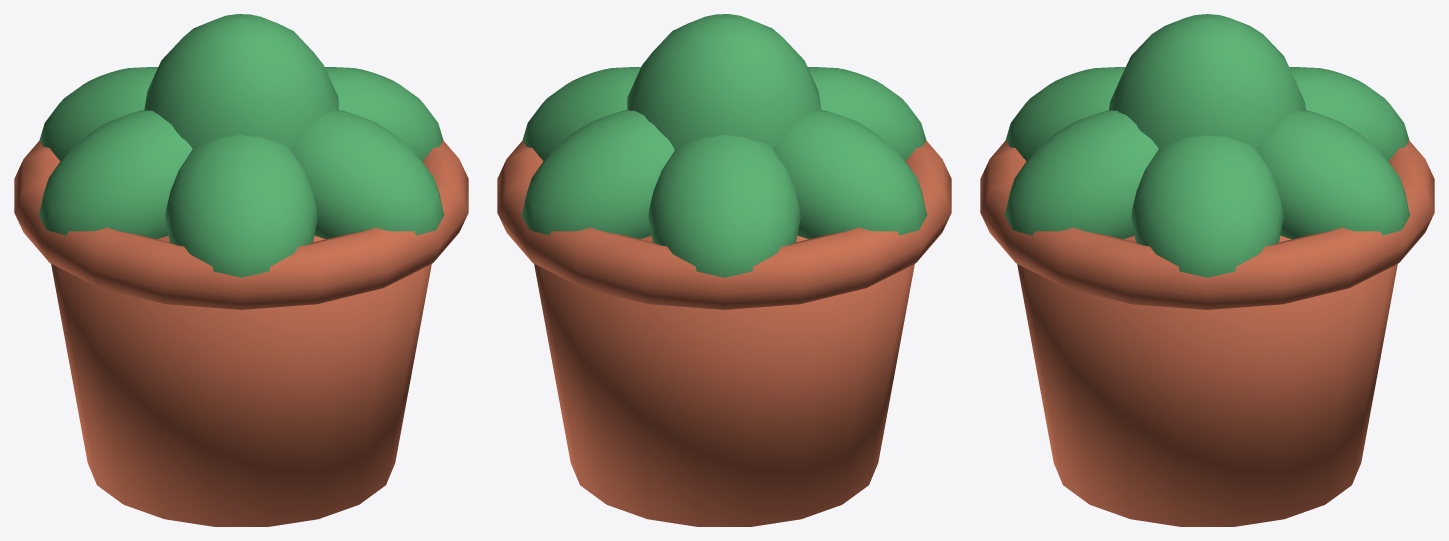
Rendered from Decor_MiniPlant.fbx.
The picture shows the model from 3 angles, left to right: view 1: azimuth 30°, elevation 25°; view 2: azimuth 150°, elevation 25°; view 3: azimuth 270°, elevation 25°; orthographic projection.
Visible parts, largest first — view 1: Plant_Pot, Plant_PotRim, Plant_CenterBud, Plant_Leaf_5, Plant_Leaf_4, Plant_Leaf_6, Plant_Leaf_3, Plant_Leaf_1; view 2: Plant_Pot, Plant_PotRim, Plant_CenterBud, Plant_Leaf_3, Plant_Leaf_4, Plant_Leaf_2, Plant_Leaf_5, Plant_Leaf_1; view 3: Plant_Pot, Plant_PotRim, Plant_CenterBud, Plant_Leaf_1, Plant_Leaf_2, Plant_Leaf_6, Plant_Leaf_3, Plant_Leaf_5.
Part boxes in pixels (x1,y1,x2,y2): Plant_Pot: [51, 235, 431, 526]; Plant_PotRim: [14, 140, 468, 309]; Plant_CenterBud: [144, 14, 338, 149]; Plant_Leaf_5: [165, 135, 317, 277]; Plant_Leaf_4: [38, 110, 192, 238]; Plant_Leaf_6: [291, 110, 444, 238]; Plant_Leaf_3: [39, 67, 157, 160]; Plant_Leaf_1: [325, 67, 443, 160]; Plant_Pot: [534, 235, 914, 526]; Plant_PotRim: [497, 140, 951, 309]; Plant_CenterBud: [627, 14, 821, 149]; Plant_Leaf_3: [648, 135, 800, 277]; Plant_Leaf_4: [773, 110, 927, 238]; Plant_Leaf_2: [521, 110, 674, 238]; Plant_Leaf_5: [808, 67, 926, 160]; Plant_Leaf_1: [522, 67, 640, 160]; Plant_Pot: [1017, 235, 1397, 526]; Plant_PotRim: [980, 140, 1434, 309]; Plant_CenterBud: [1109, 14, 1305, 148]; Plant_Leaf_1: [1131, 135, 1283, 277]; Plant_Leaf_2: [1256, 110, 1410, 239]; Plant_Leaf_6: [1004, 110, 1158, 239]; Plant_Leaf_3: [1289, 67, 1409, 160]; Plant_Leaf_5: [1005, 67, 1125, 160].
Bounding box in the file's own units: 3.6 × 3.8 × 3.55.
